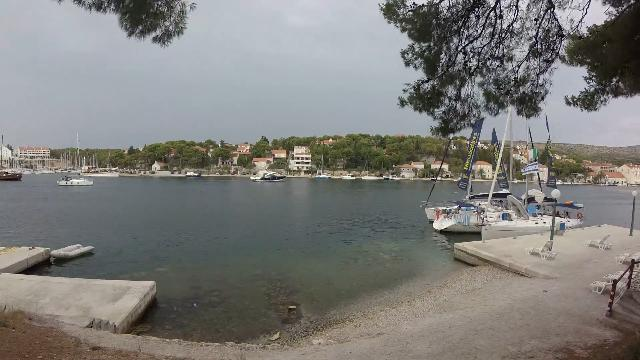Freighter: (0, 164, 28, 184)
Sailboat: (52, 174, 100, 188)
speedboat: (246, 168, 292, 184)
